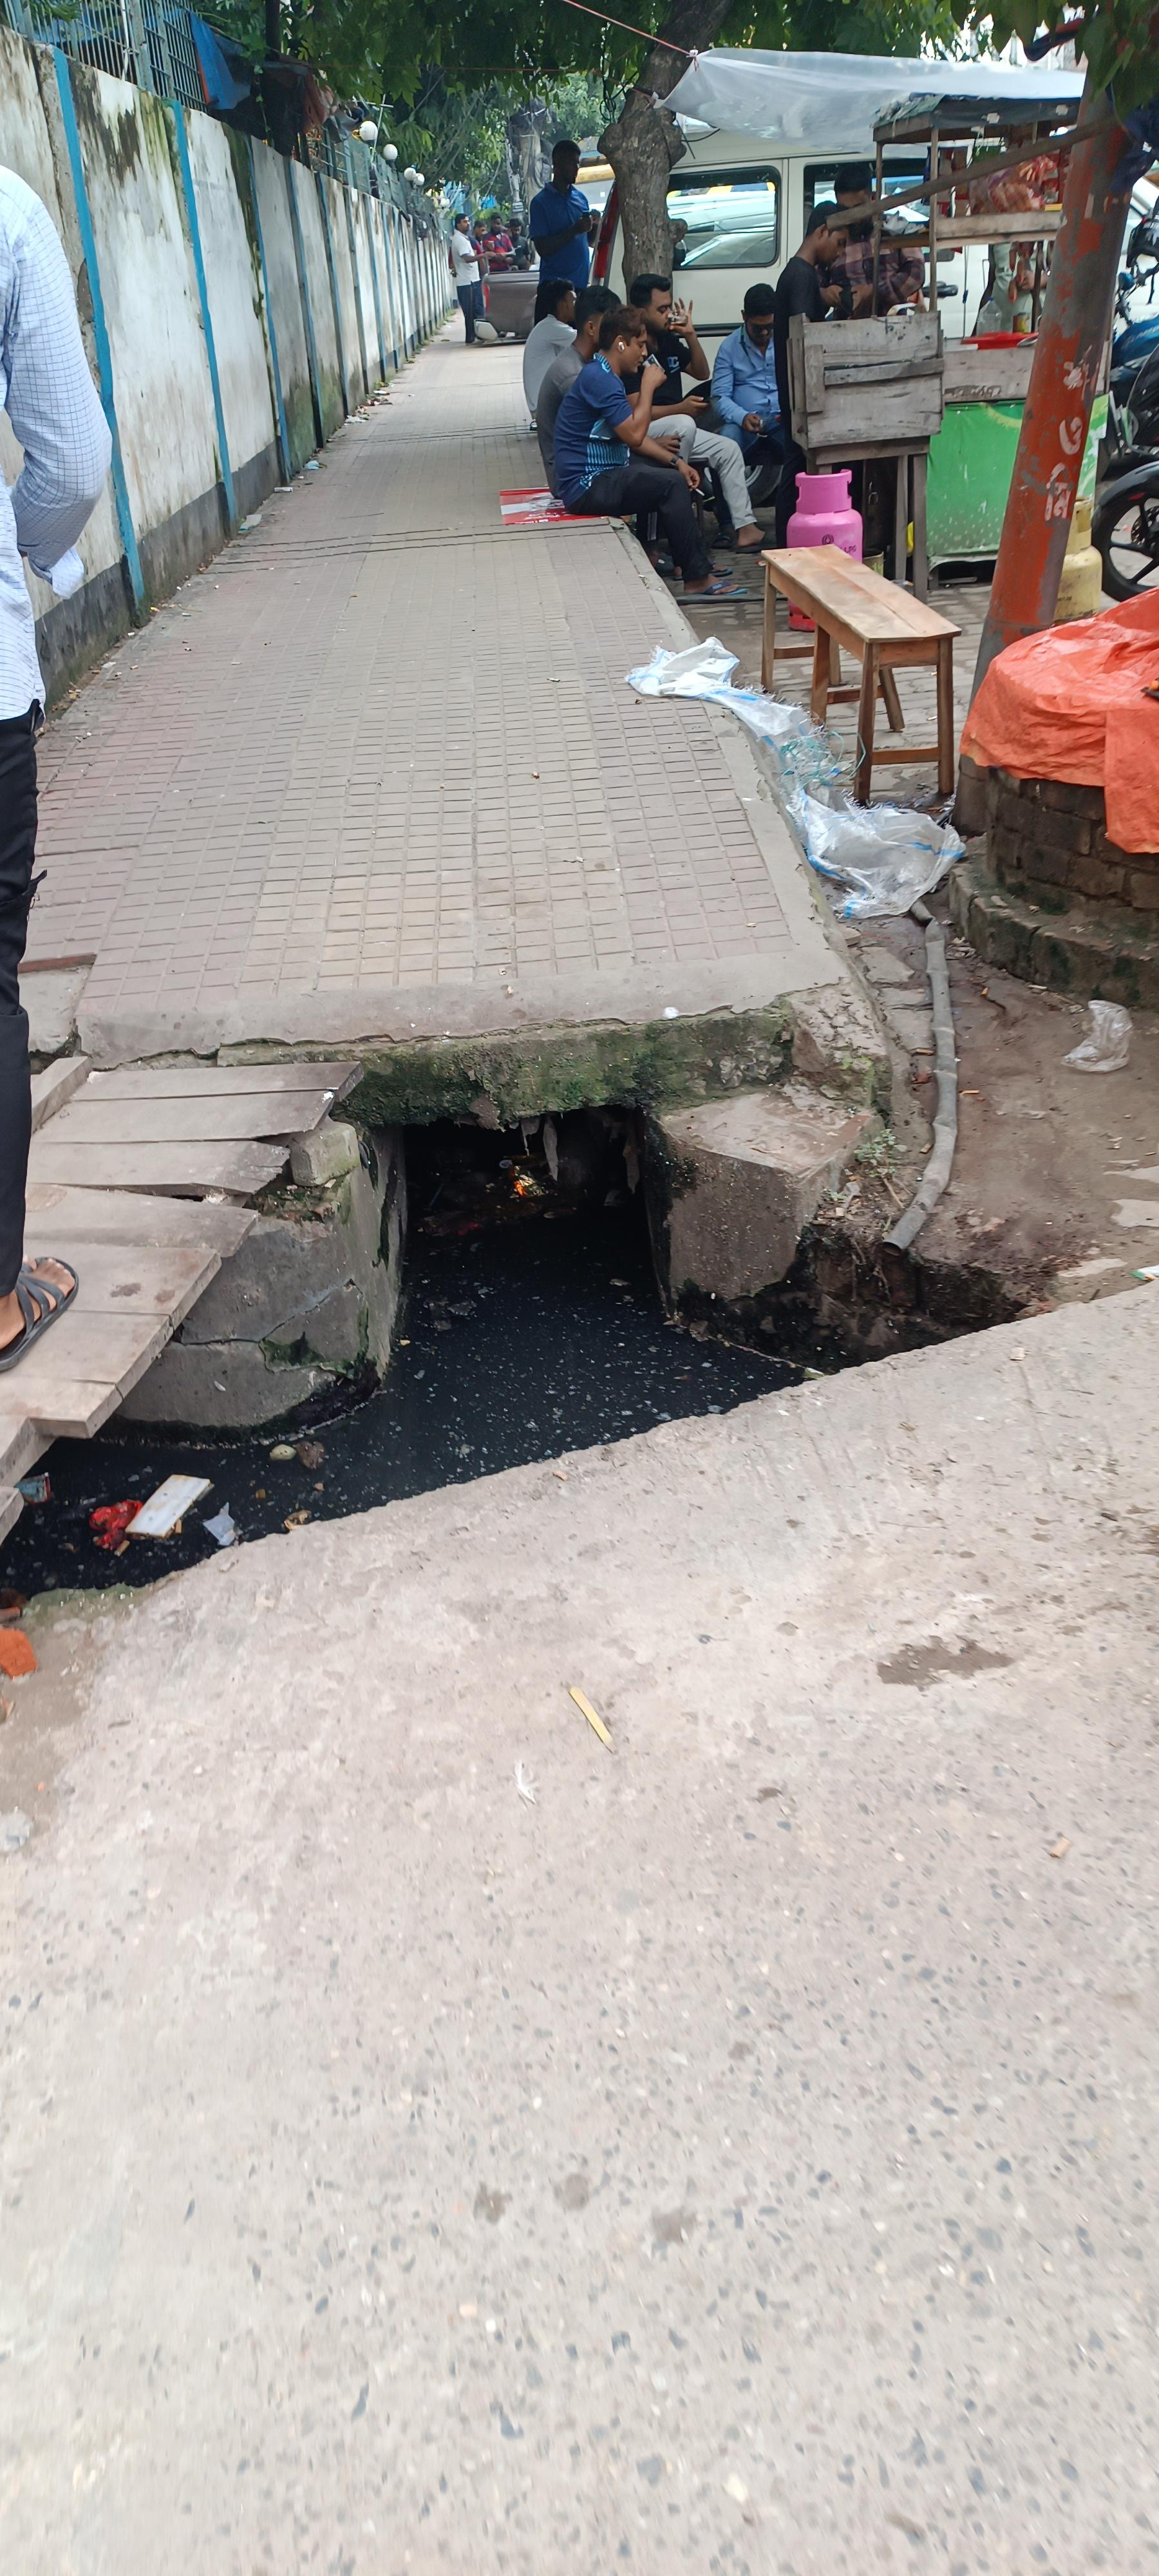Dog: (625, 634, 967, 920)
Garbage-bin: (0, 164, 117, 1373), (552, 307, 747, 598), (629, 273, 767, 552), (709, 284, 786, 504), (527, 140, 598, 322), (450, 214, 499, 343)
Motorcycle: (174, 1017, 1102, 1628)
